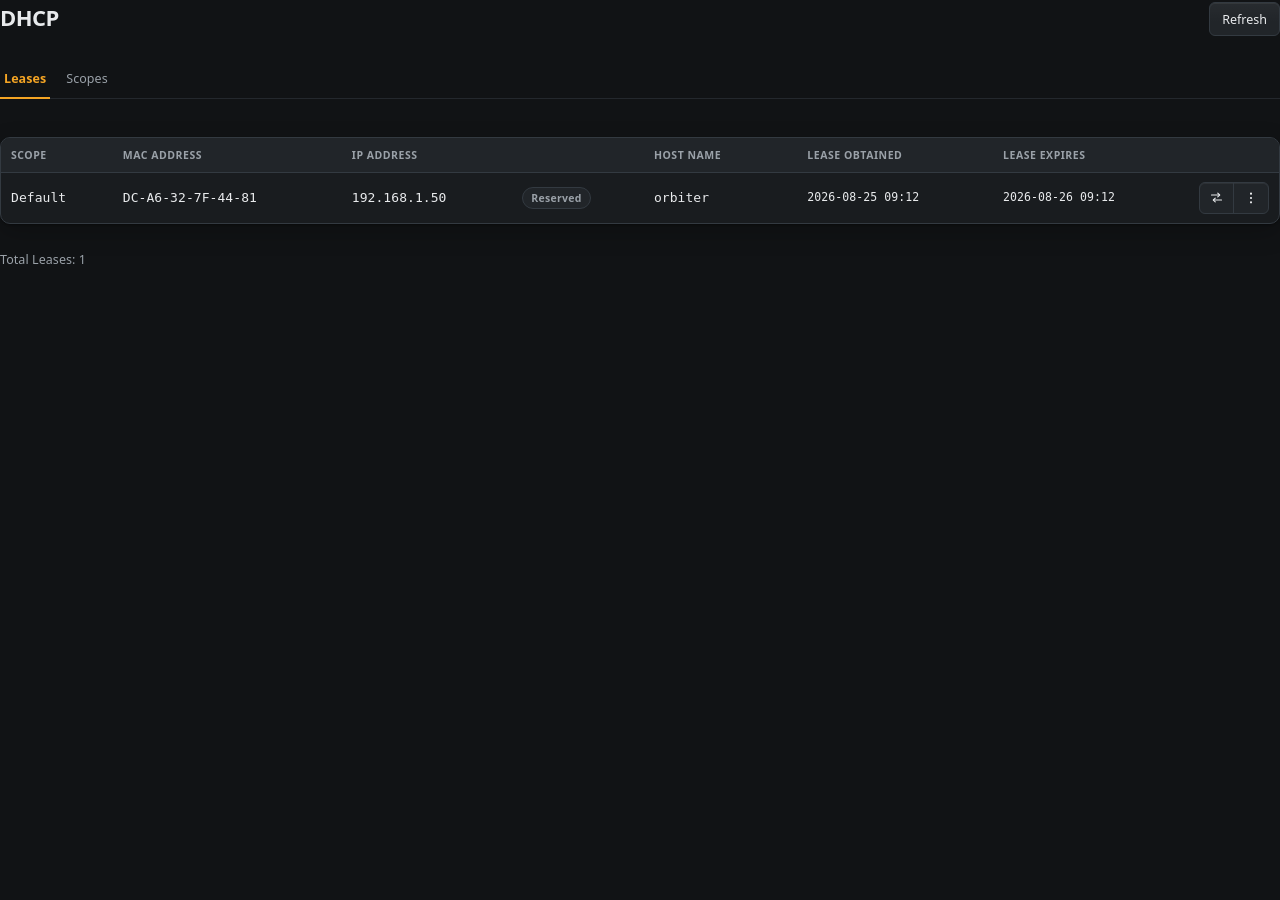
Scenario: DHCP › Leases › unreserving alerts with "Unreserved!"
Check: the text "192.168.1.50" is shown, box [342,172,512,223]
Click the button named "Convert To Dynamic Lease": [1216, 198] box [1200,183,1233,213]
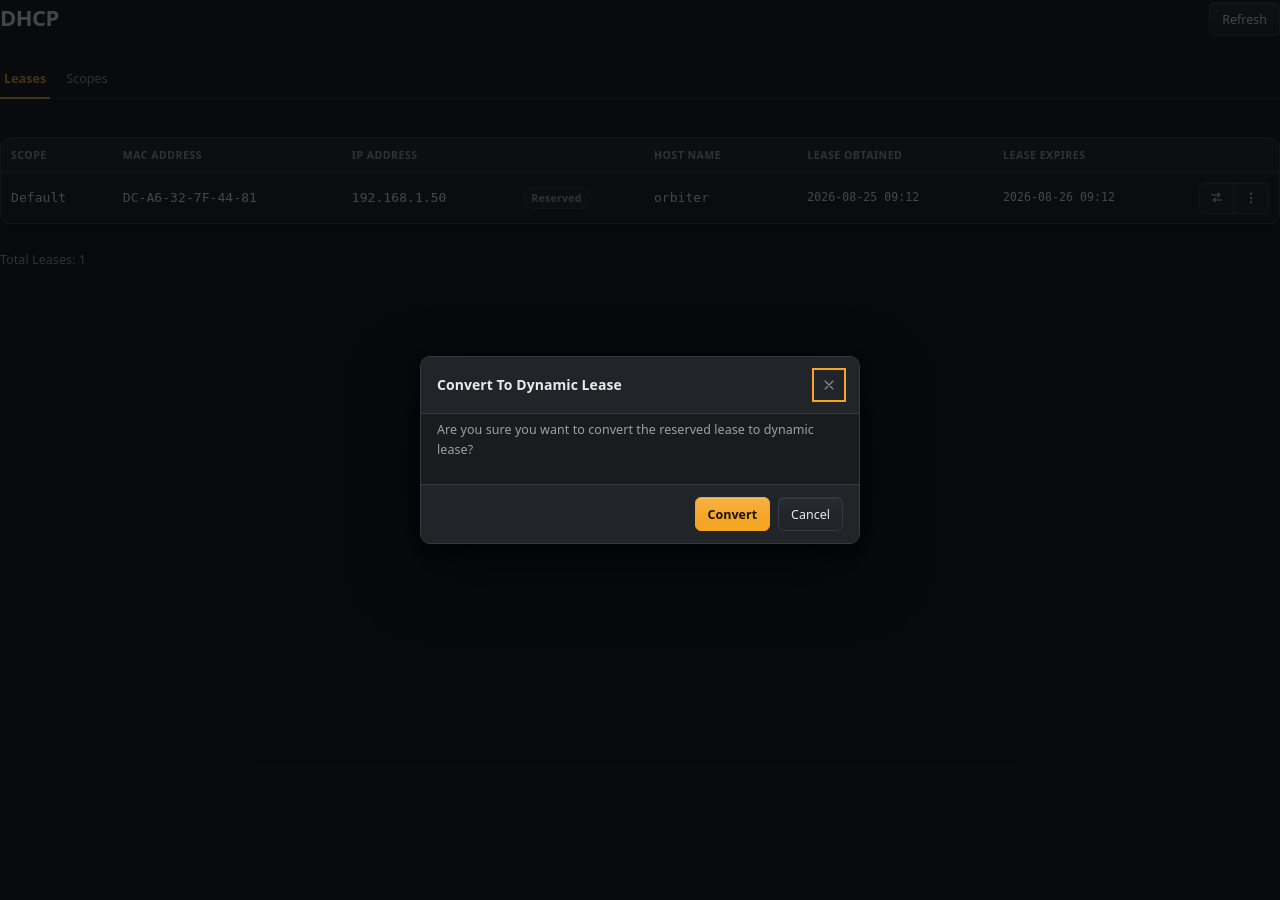
Check: the text "Are you sure you want to convert the reserved lease to dynamic lease?" is shown, box [437,420,843,460]
Click the button "Convert": [732, 514] box [695,497,770,531]
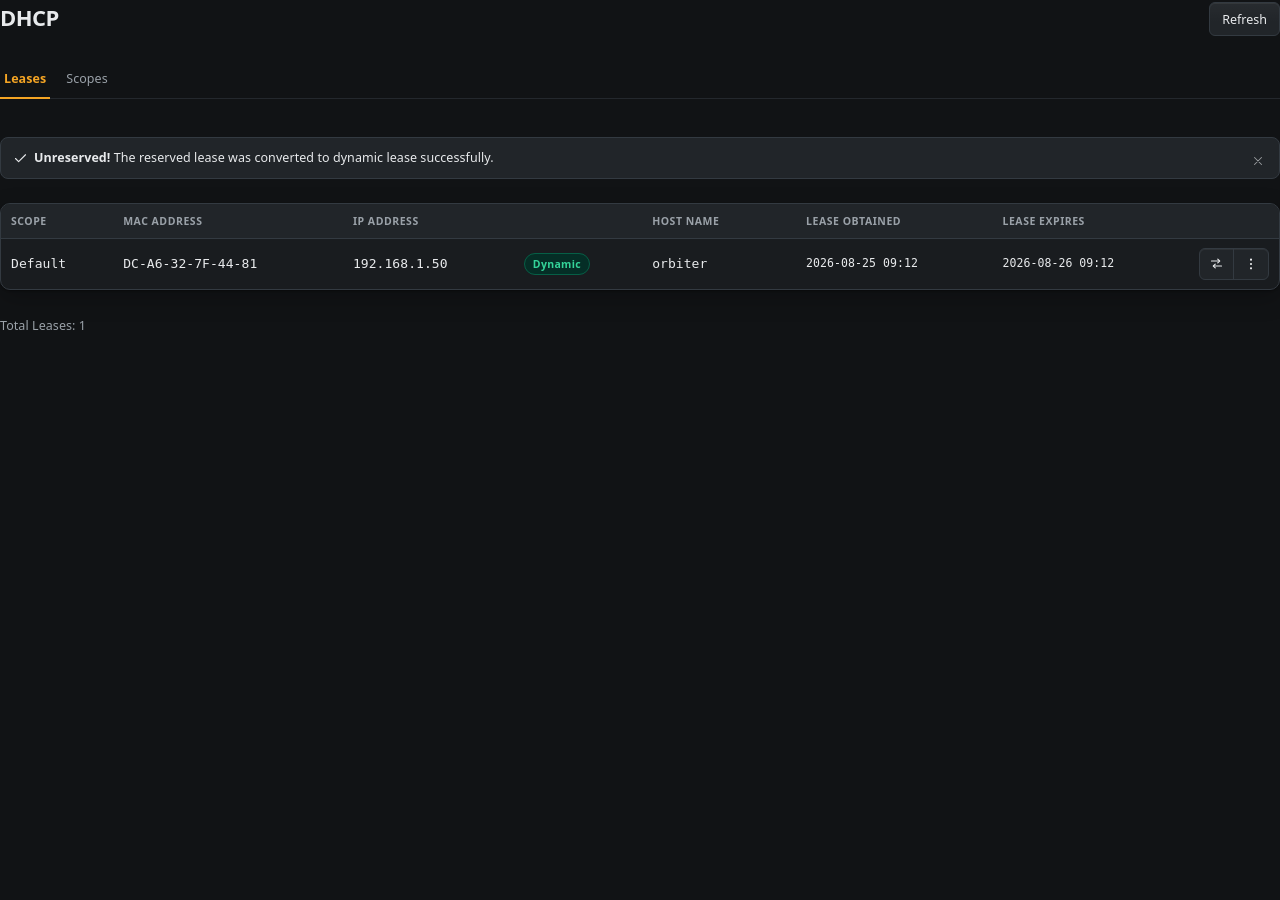
Check: the text "Unreserved!" is shown, box [34,149,110,166]
Check: the text "The reserved lease was converted to dynamic lease successfully." is shown, box [114,149,494,166]
